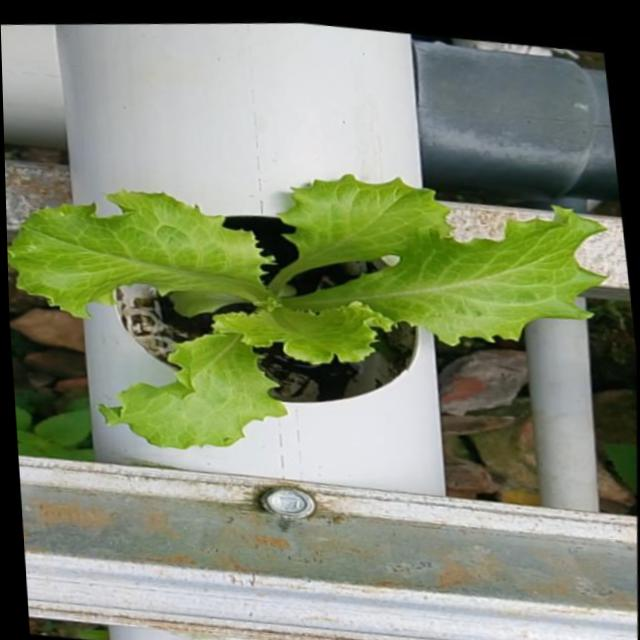Baby: (8, 174, 610, 448)
